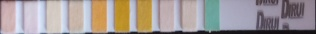color 1: (2, 2, 14, 32)
color 10: (205, 1, 218, 28)
color 2: (24, 2, 37, 32)
color 3: (46, 2, 60, 32)
color 4: (70, 2, 82, 31)
color 5: (91, 2, 106, 31)
color 6: (116, 1, 128, 31)
color 7: (138, 1, 151, 30)
color 8: (160, 1, 174, 30)
color 9: (183, 1, 195, 30)
